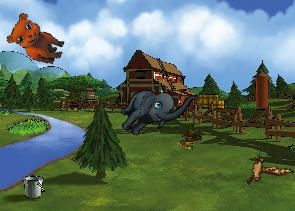bear: (3, 10, 71, 67)
eagle: (236, 142, 294, 197)
elephant: (112, 65, 198, 154)
